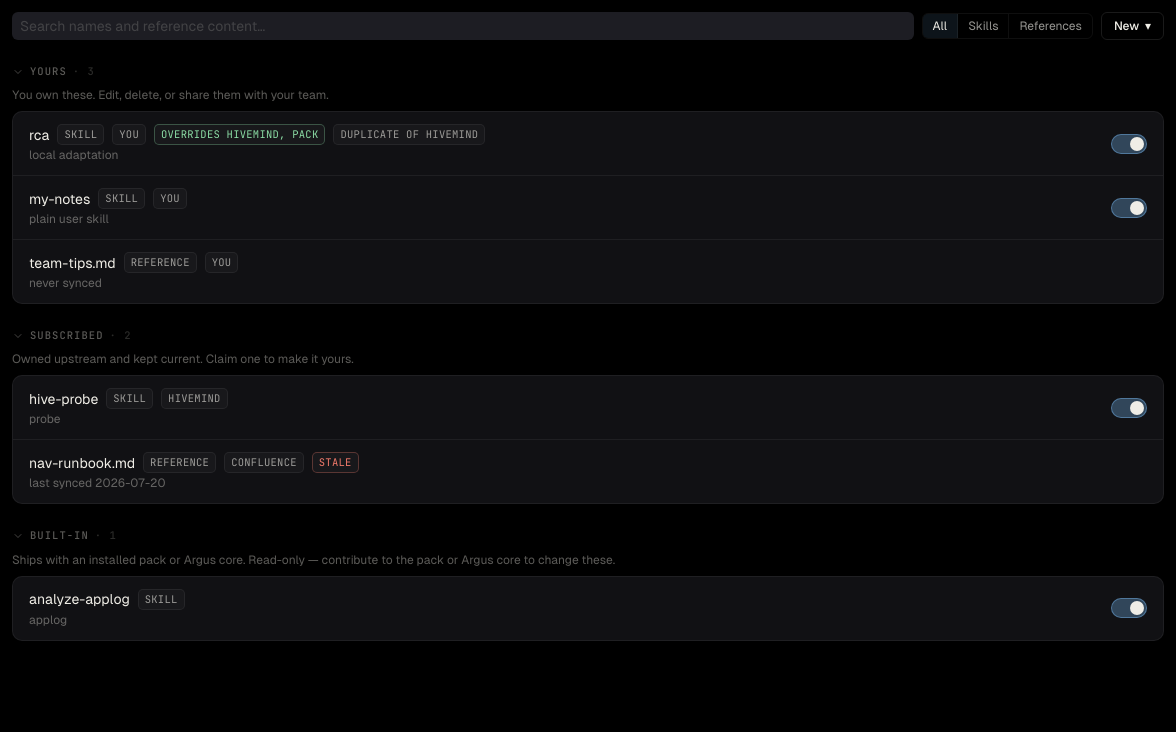
it: LibraryPage filters › search matches skills by name client-side and references via refsync search IPC
Expected: the button "rca" is shown, [29, 125, 50, 145]
Type "nav" into the field named "search library" at point(463, 26), box [12, 12, 914, 40]
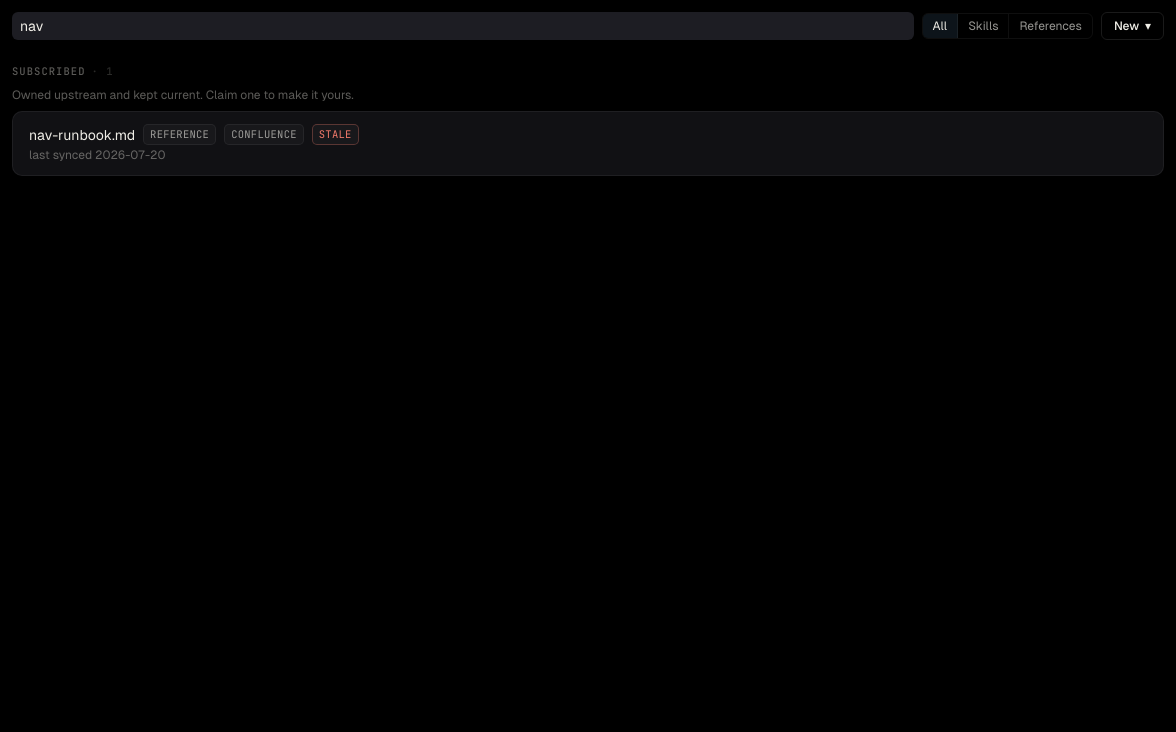
Expected: the button "nav-runbook.md" is shown, [29, 125, 135, 145]
Expected: the button "team-tips.md" is gone
Expected: the button "my-notes" is gone
Replace the text in the field named "search library" with "rca" at point(463, 26), box [12, 12, 914, 40]
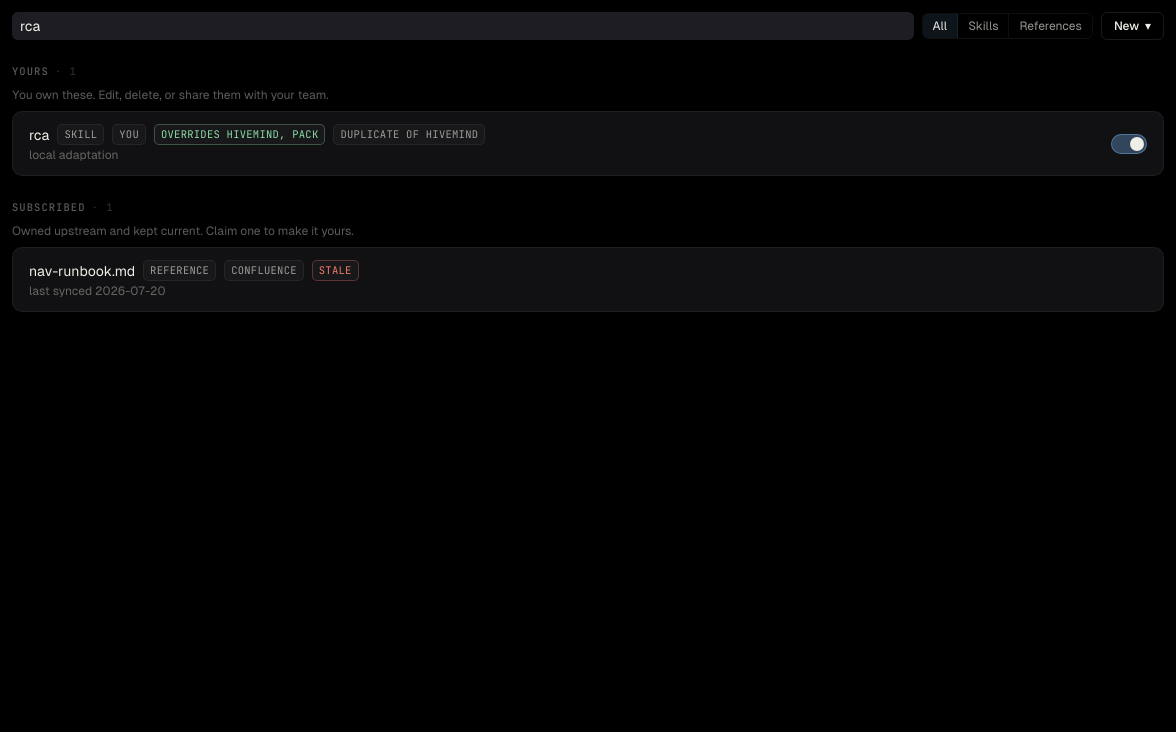
Expected: the button "rca" is shown, [29, 125, 50, 145]
